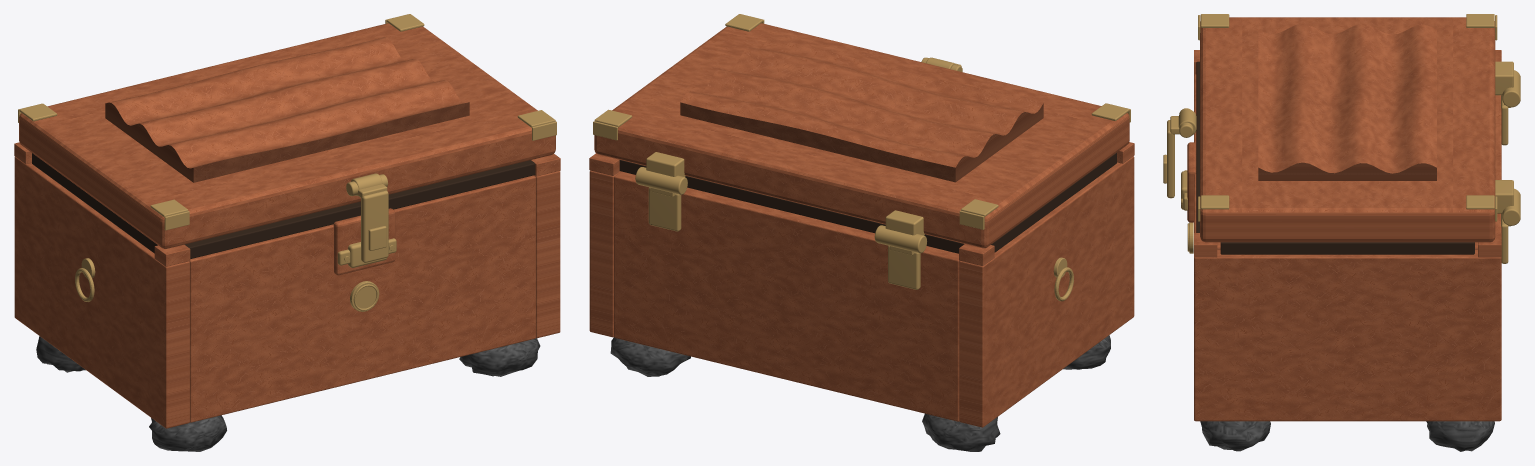
File: uganda.glb
3 renders of one model, left to right at view 1: azimuth 30°, elevation 25°; view 2: azimuth 150°, elevation 25°; view 3: azimuth 270°, elevation 25°, orthographic.
Parts seen in each view (by area): view 1: Barkcloth / front rear skin, Lid / polished slab, Mutuba / folded barkcloth, Barkcloth / side skin, Mineral seam / long, Barkcloth / side skin.001, Granite foot, Granite foot.002, Latch / lifting hasp, Barkcloth / clasp seat, Mineral seam / side, Granite foot.001 (+2 smaller); view 2: Barkcloth / front rear skin.001, Lid / polished slab, Mutuba / folded barkcloth, Barkcloth / side skin, Barkcloth / side skin.001, Mineral seam / long.001, Granite foot.001, Granite foot.003, Mineral seam / side, Hinge / fixed mount.001, Hinge / fixed mount, Hinge / fixed barrel.001 (+6 smaller); view 3: Barkcloth / side skin.001, Lid / polished slab, Mutuba / folded barkcloth, Mineral seam / side.001, Granite foot.002, Granite foot.003, Barkcloth / front rear skin.001, Barkcloth / clasp seat, Mineral seam / long, Hinge / moving leaf, Latch / lifting hasp, Hinge / moving leaf.001 (+8 smaller).
Boxes of the visible parts, <box> form: Barkcloth / front rear skin: <box>189,175,535,422</box>; Lid / polished slab: <box>19,23,555,248</box>; Mutuba / folded barkcloth: <box>105,37,469,182</box>; Barkcloth / side skin: <box>14,156,189,428</box>; Mineral seam / long: <box>184,160,535,258</box>; Barkcloth / side skin.001: <box>534,171,560,338</box>; Granite foot: <box>149,415,226,451</box>; Granite foot.002: <box>459,338,540,376</box>; Latch / lifting hasp: <box>361,190,388,262</box>; Barkcloth / clasp seat: <box>333,208,395,275</box>; Mineral seam / side: <box>32,153,157,253</box>; Granite foot.001: <box>36,336,85,372</box>; Barkcloth / front rear skin.001: <box>614,171,959,421</box>; Lid / polished slab: <box>594,23,1129,248</box>; Mutuba / folded barkcloth: <box>680,37,1043,182</box>; Barkcloth / side skin: <box>959,156,1134,427</box>; Barkcloth / side skin.001: <box>589,170,620,337</box>; Mineral seam / long.001: <box>619,160,964,253</box>; Granite foot.001: <box>922,413,1000,451</box>; Granite foot.003: <box>610,337,690,376</box>; Mineral seam / side: <box>991,153,1116,252</box>; Hinge / fixed mount.001: <box>648,187,681,231</box>; Hinge / fixed mount: <box>888,245,920,289</box>; Hinge / fixed barrel.001: <box>635,167,687,194</box>; Barkcloth / side skin.001: <box>1194,249,1501,421</box>; Lid / polished slab: <box>1200,17,1495,242</box>; Mutuba / folded barkcloth: <box>1258,23,1436,180</box>; Mineral seam / side.001: <box>1220,242,1474,254</box>; Granite foot.002: <box>1200,421,1270,451</box>; Granite foot.003: <box>1426,421,1494,451</box>; Barkcloth / front rear skin.001: <box>1495,95,1501,232</box>; Barkcloth / clasp seat: <box>1187,142,1196,222</box>; Mineral seam / long: <box>1196,61,1199,232</box>; Hinge / moving leaf: <box>1495,61,1513,95</box>; Latch / lifting hasp: <box>1167,120,1174,198</box>; Hinge / moving leaf.001: <box>1495,180,1513,213</box>.
Bounding box in the file's own units: 3.79 × 2.47 × 2.88.
5 materials, 3 textured.
